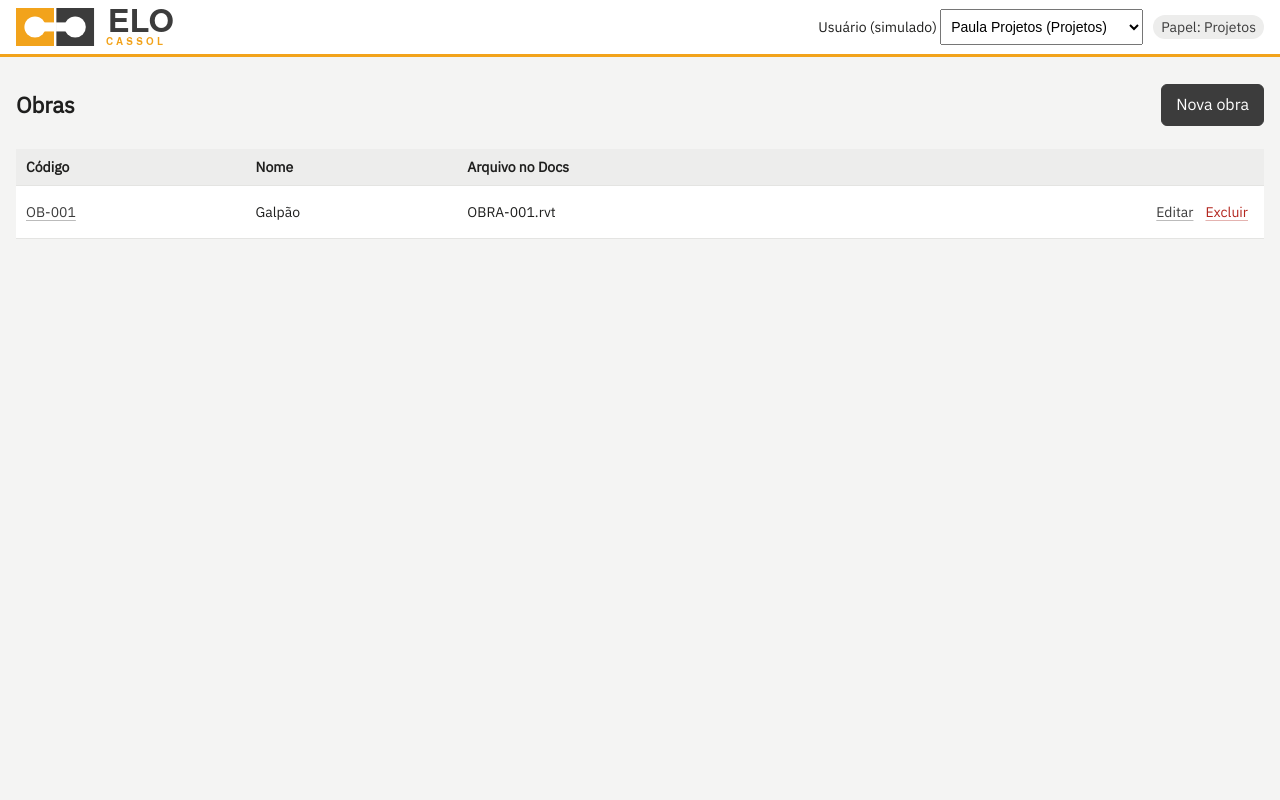
Editar e excluir obra › edita código e nome; Enter salva
Click the button with aria-label "Editar obra OB-001".
click(1175, 212)  # box [1150,194,1200,230]
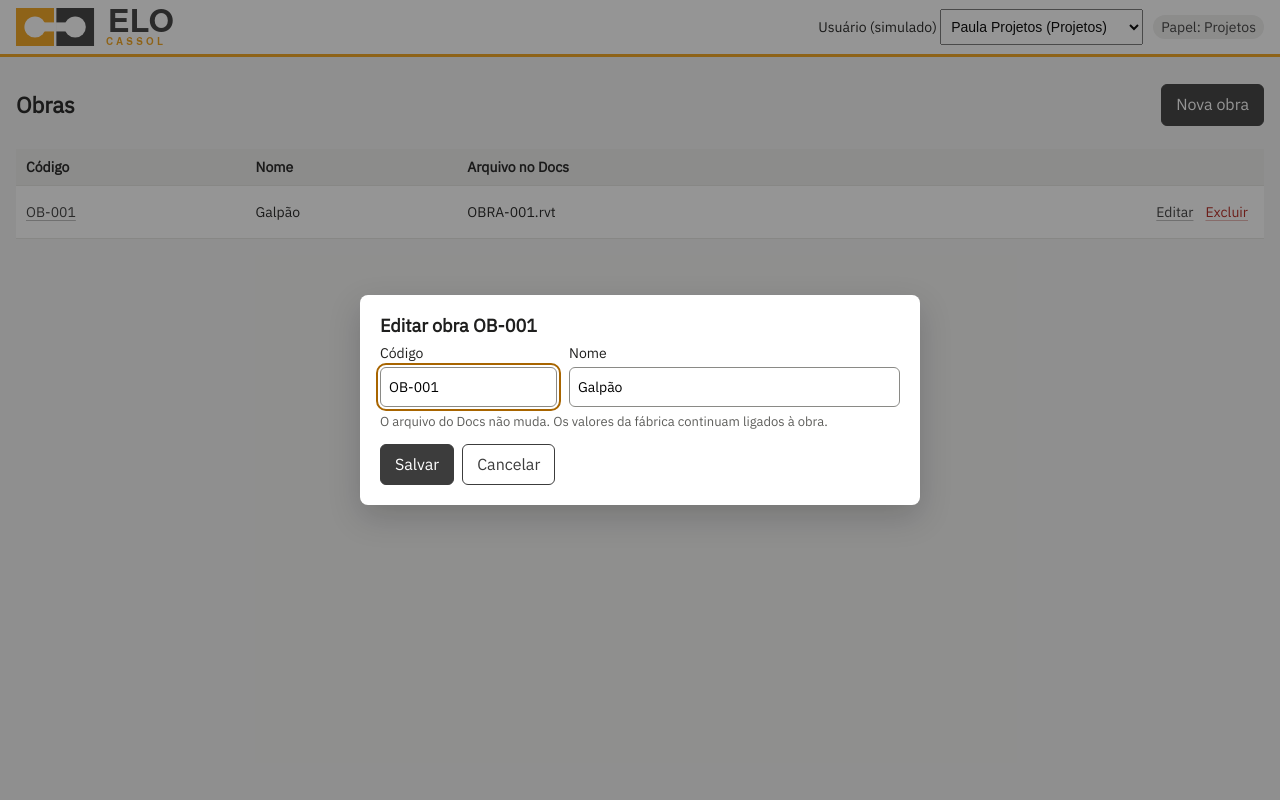
Replace the text in the field labelled "Código" with "OB-002" at (468, 387), box [380,367,557,407]
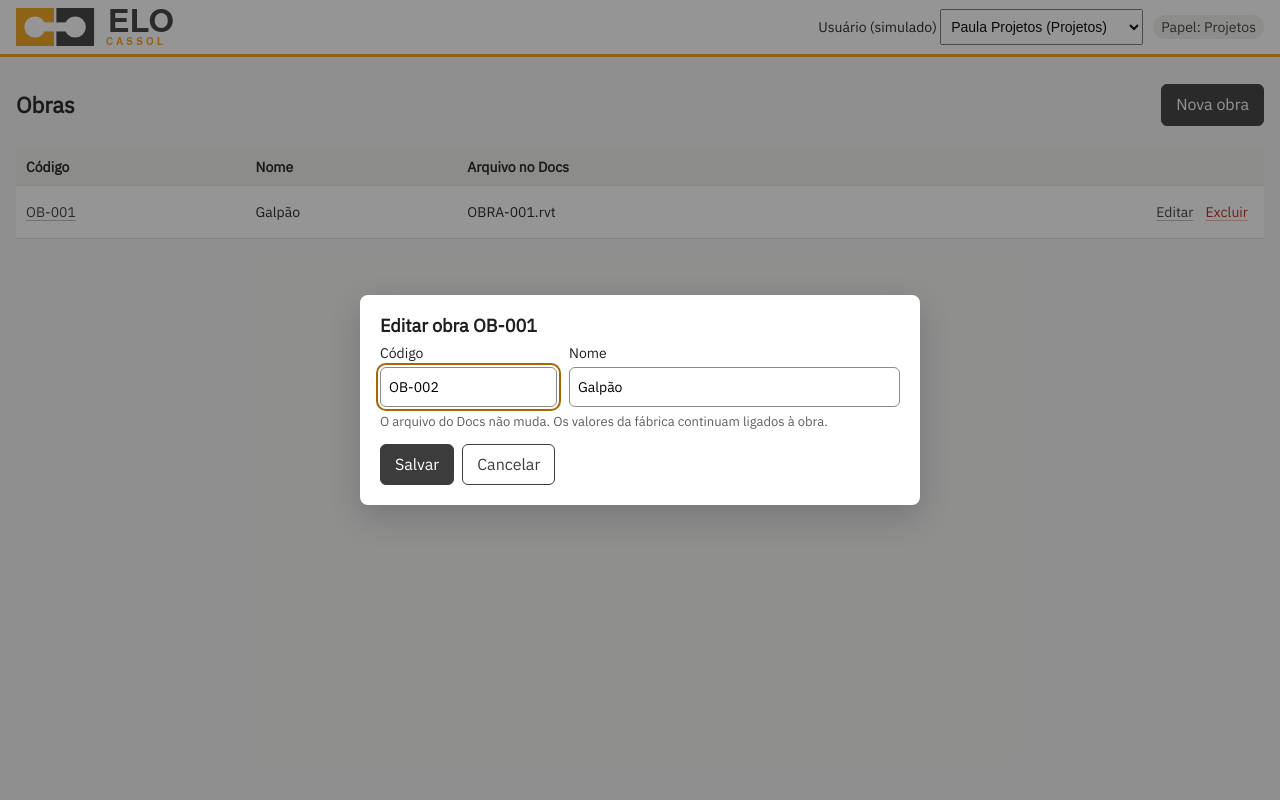
Replace the text in the field labelled "Nome" with "Galpão novo" at (734, 387), box [569,367,900,407]
Then press Enter
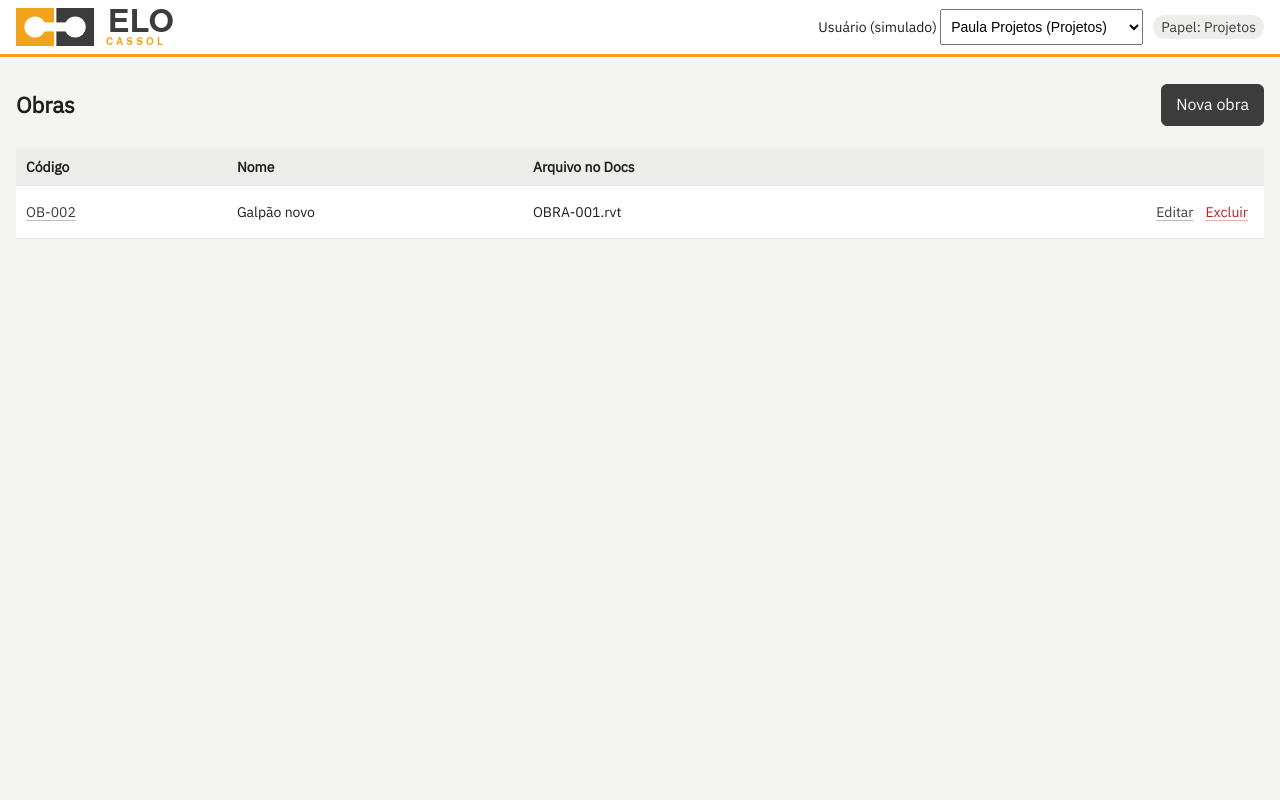
Expected: the link "OB-002" is shown, [26,203,76,221]
Expected: the text "Galpão novo" is shown, [227,186,523,239]
Expected: the dialog is gone
